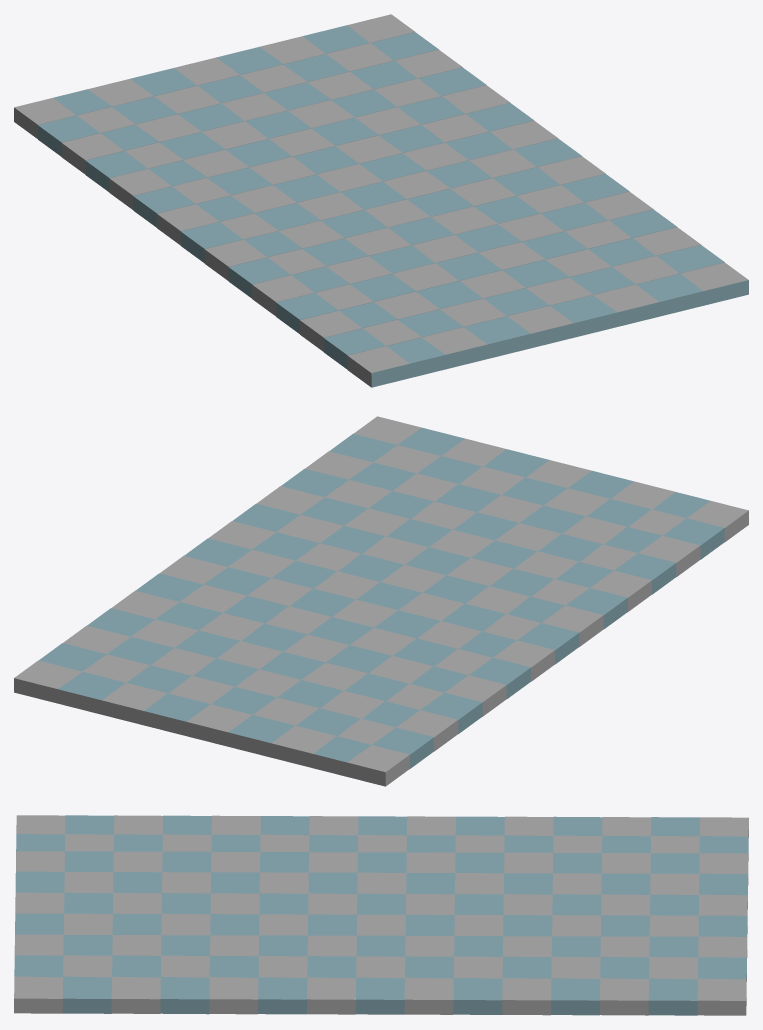
File: TableCloth.fbx
The picture shows the model from 3 angles, top to bottom: view 1: azimuth 30°, elevation 25°; view 2: azimuth 150°, elevation 25°; view 3: azimuth 270°, elevation 25°; orthographic projection. The views are drawn at different scales.
Parts seen in each view (by area): view 1: TableCloth; view 2: TableCloth; view 3: TableCloth.
Part boxes in pixels (<box>): TableCloth: <box>14,14,748,387</box>; TableCloth: <box>14,416,748,786</box>; TableCloth: <box>14,815,748,1015</box>.
Bounding box in the file's own units: 2.73 × 0.1173 × 4.52.
